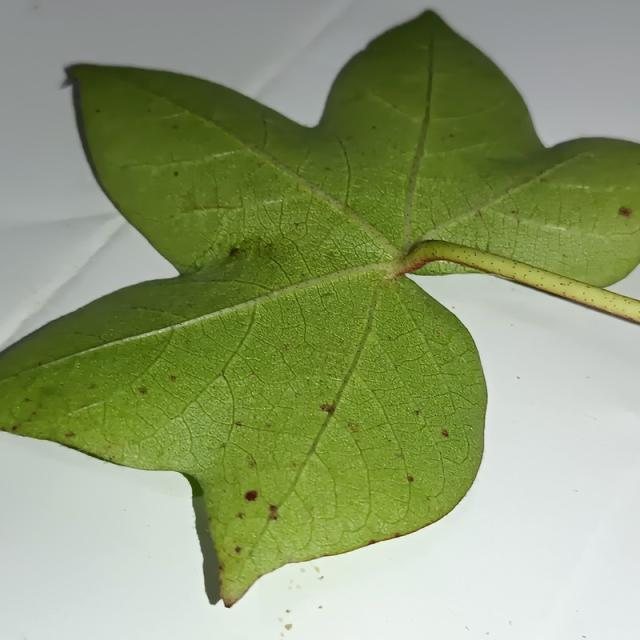Bacterial_Blight: (214, 232, 295, 275), (392, 256, 435, 277), (59, 66, 82, 89), (320, 395, 341, 416), (37, 384, 61, 401), (383, 266, 404, 282), (279, 618, 293, 636), (217, 564, 227, 585), (617, 206, 633, 218), (244, 489, 258, 502), (227, 247, 241, 260), (267, 505, 279, 520), (348, 422, 360, 432), (138, 387, 148, 395), (248, 459, 256, 469), (64, 431, 75, 438), (441, 429, 449, 438), (87, 383, 97, 390), (367, 540, 377, 547), (474, 210, 482, 218), (539, 177, 549, 183), (413, 410, 421, 417), (169, 375, 177, 382), (396, 452, 404, 459), (406, 475, 414, 482), (283, 343, 290, 350), (237, 512, 244, 519), (235, 546, 242, 553), (235, 421, 243, 427), (11, 425, 19, 431), (24, 397, 32, 403), (436, 330, 442, 338), (173, 170, 179, 177), (31, 411, 38, 417), (172, 124, 179, 130), (394, 533, 402, 538), (294, 221, 300, 227), (300, 567, 306, 573), (510, 210, 517, 215), (218, 565, 223, 572), (561, 253, 568, 258), (95, 108, 101, 113), (371, 125, 377, 130), (285, 609, 291, 614), (278, 617, 283, 623), (388, 335, 393, 340), (449, 133, 454, 138), (318, 605, 323, 610), (539, 283, 544, 287), (280, 636, 285, 640), (516, 376, 520, 379)
Cotton: (0, 12, 639, 606)
